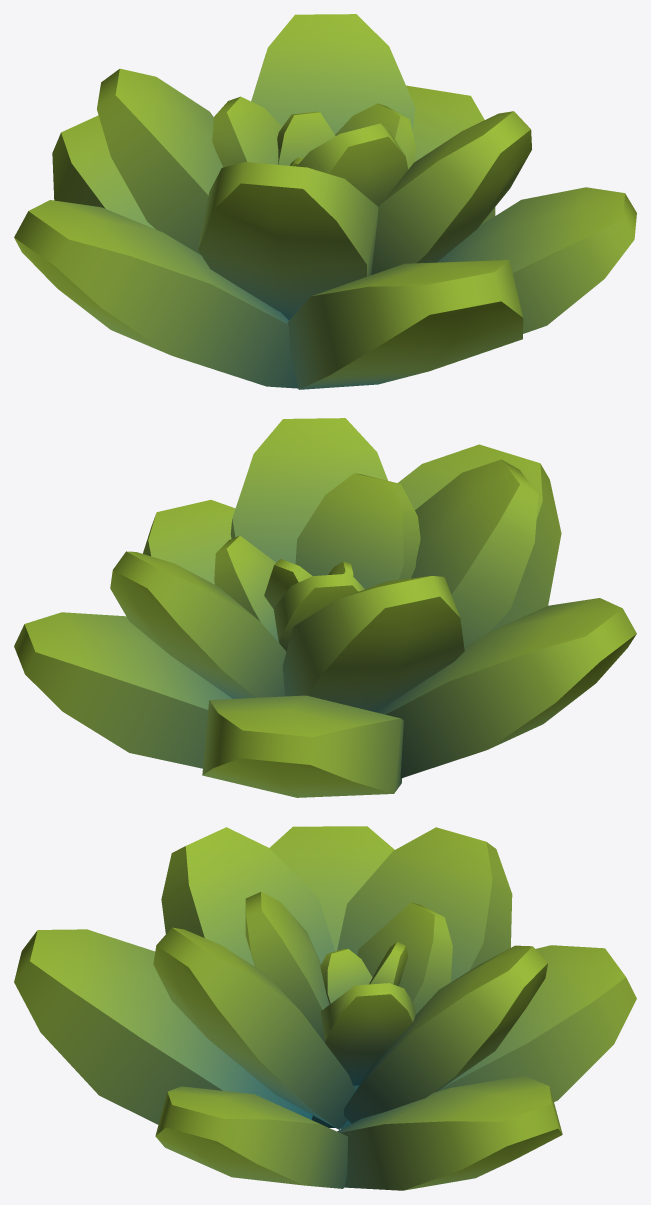
The picture shows the model from 3 angles, top to bottom: view 1: azimuth 30°, elevation 25°; view 2: azimuth 150°, elevation 25°; view 3: azimuth 270°, elevation 25°; orthographic projection. The views are drawn at different scales.
Parts seen in each view (by area): view 1: LOD 1_12136077992207387896_2f8ba4c41a4dc724f9dea2cd9f6b5378; view 2: LOD 1_12136077992207387896_2f8ba4c41a4dc724f9dea2cd9f6b5378; view 3: LOD 1_12136077992207387896_2f8ba4c41a4dc724f9dea2cd9f6b5378.
Boxes of the visible parts, <box> form: LOD 1_12136077992207387896_2f8ba4c41a4dc724f9dea2cd9f6b5378: <box>14,14,636,389</box>; LOD 1_12136077992207387896_2f8ba4c41a4dc724f9dea2cd9f6b5378: <box>14,418,636,797</box>; LOD 1_12136077992207387896_2f8ba4c41a4dc724f9dea2cd9f6b5378: <box>14,826,636,1190</box>.
Size of the model in its own units: 0.7875 by 0.3778 by 0.8217.
